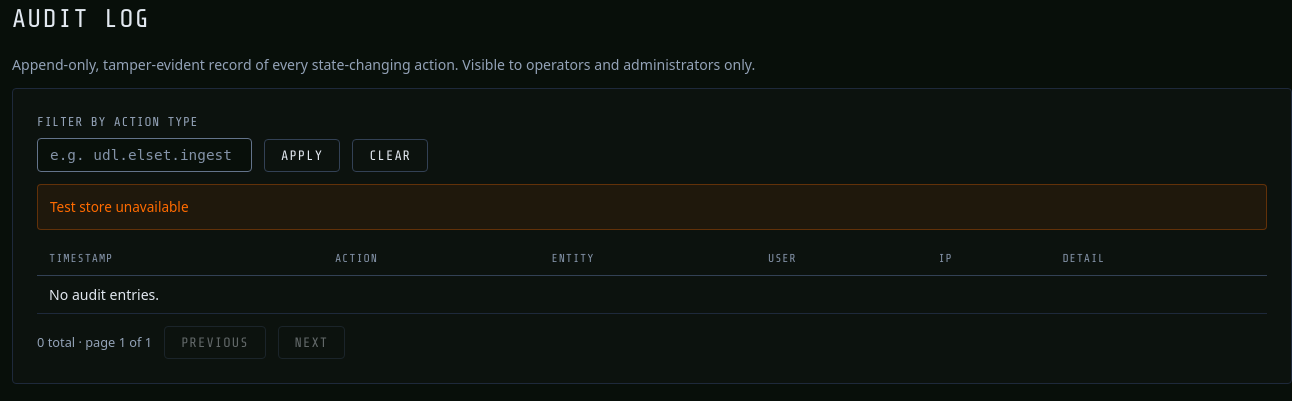
Scenario: the audit log page › says why the log cannot load, or that it failed, until a later load succeeds
Expected: the text "Test store unavailable" is shown, [37, 184, 1267, 230]
Type "test.one" into the field labelled "Filter by action type" at (144, 155), box [37, 138, 252, 172]
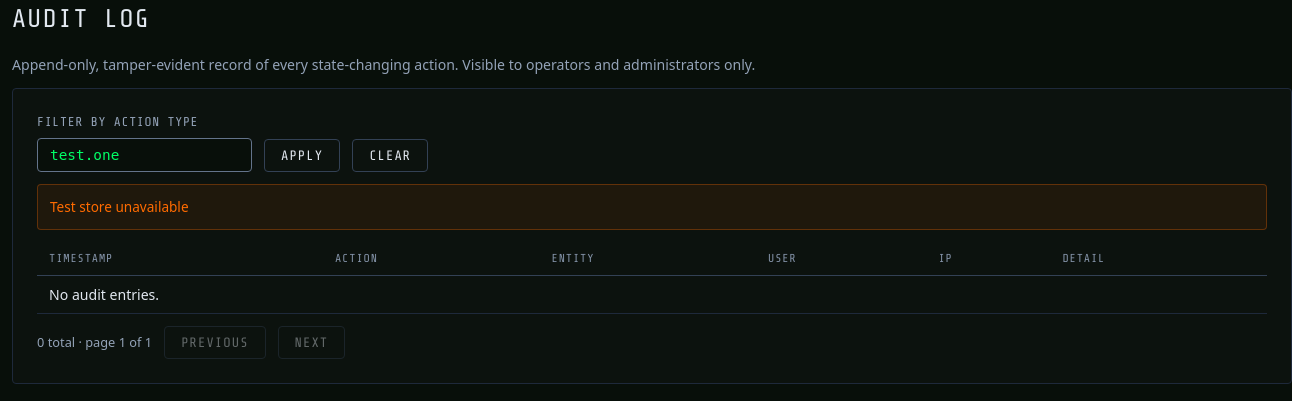
Click the button "Apply" at (302, 155), box [264, 139, 340, 172]
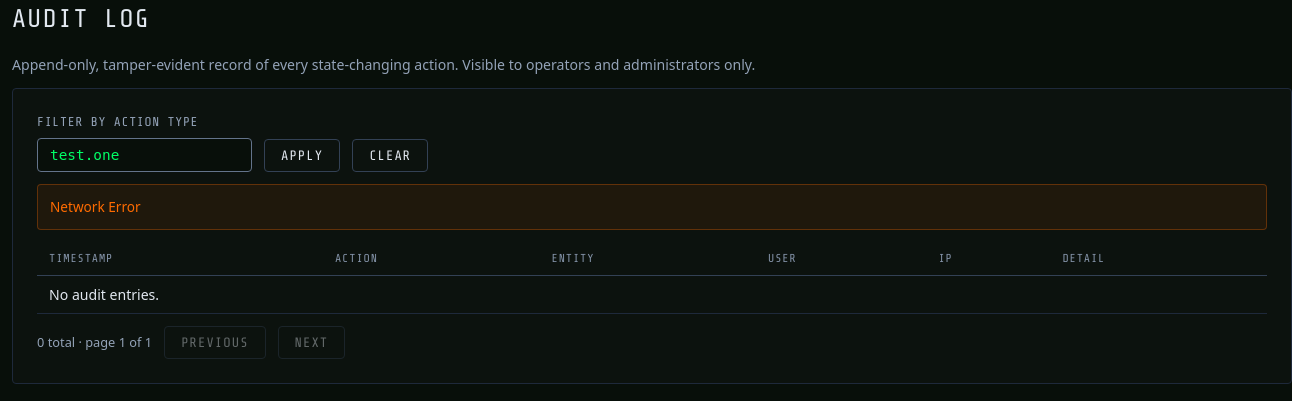
Expected: the text "Network Error" is shown, [37, 184, 1267, 230]
Expected: the text "Test store unavailable" is gone
Replace the text in the field labelled "Filter by action type" with "test.two" at (144, 155), box [37, 138, 252, 172]
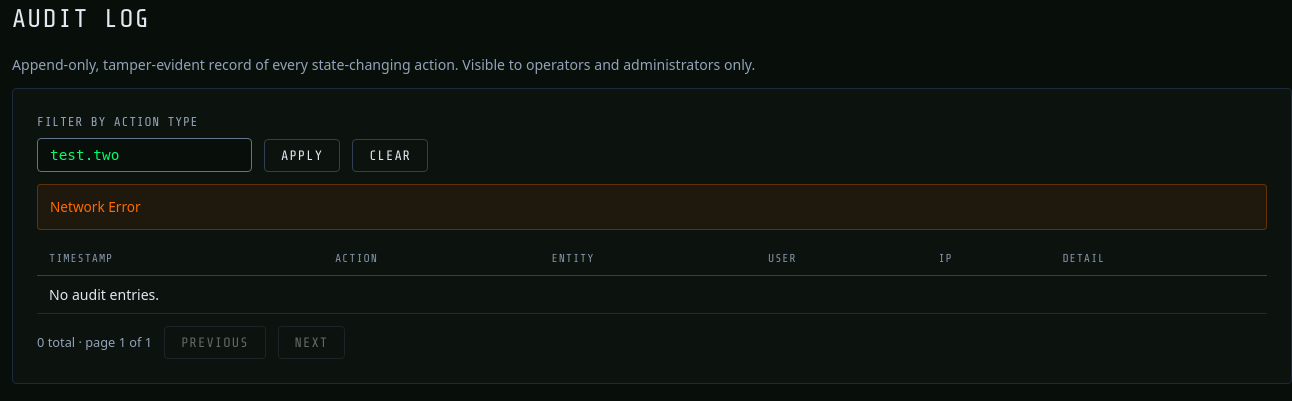
Click the button "Apply" at (302, 155), box [264, 139, 340, 172]
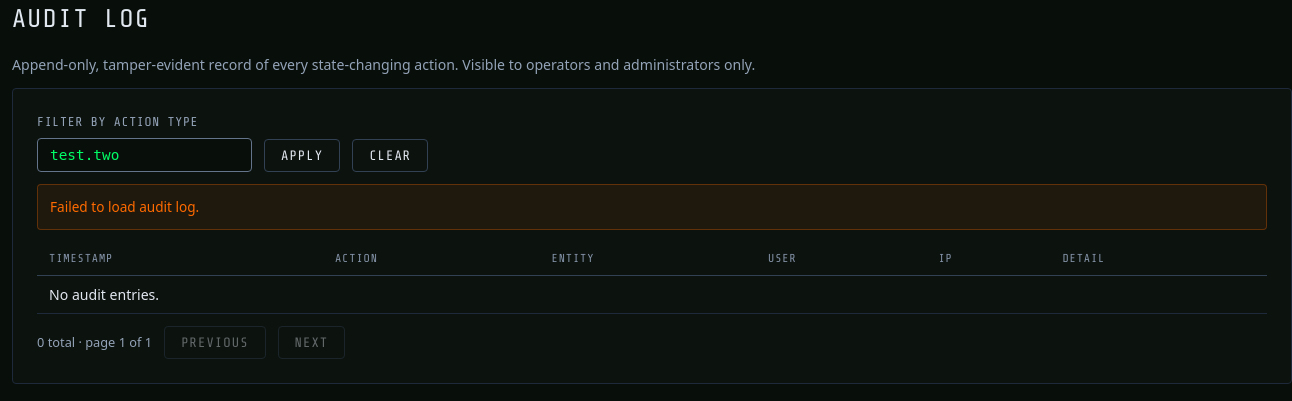
Expected: the text "Failed to load audit log." is shown, [37, 184, 1267, 230]
Replace the text in the field labelled "Filter by action type" with "test.three" at (144, 155), box [37, 138, 252, 172]
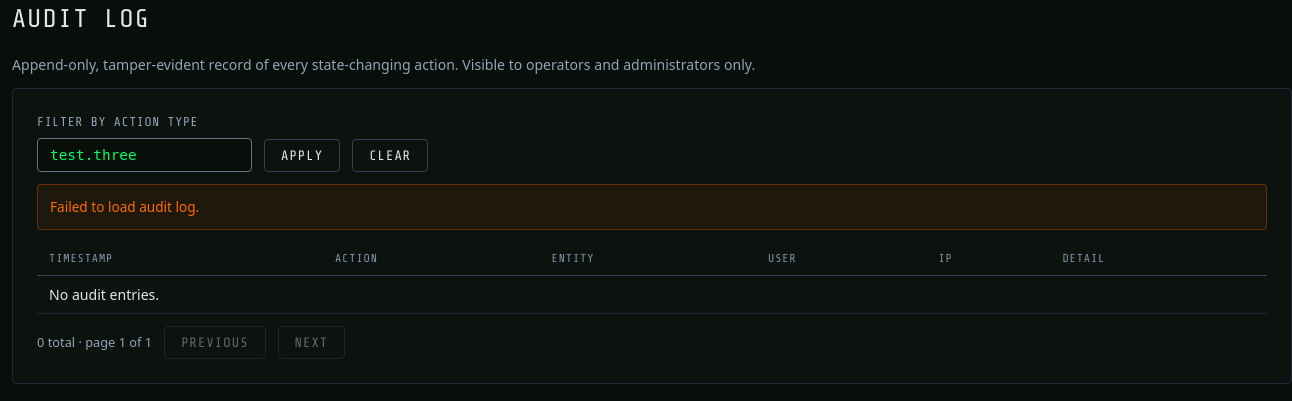
Click the button "Apply" at (302, 155), box [264, 139, 340, 172]
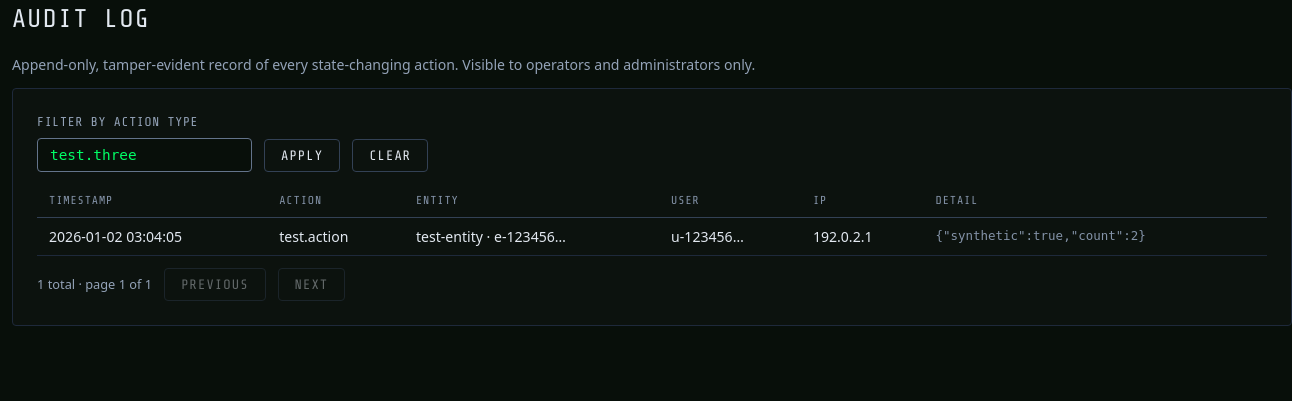
Expected: the text "test.action" is shown, [267, 218, 404, 256]
Expected: the text "Failed to load audit log." is gone
